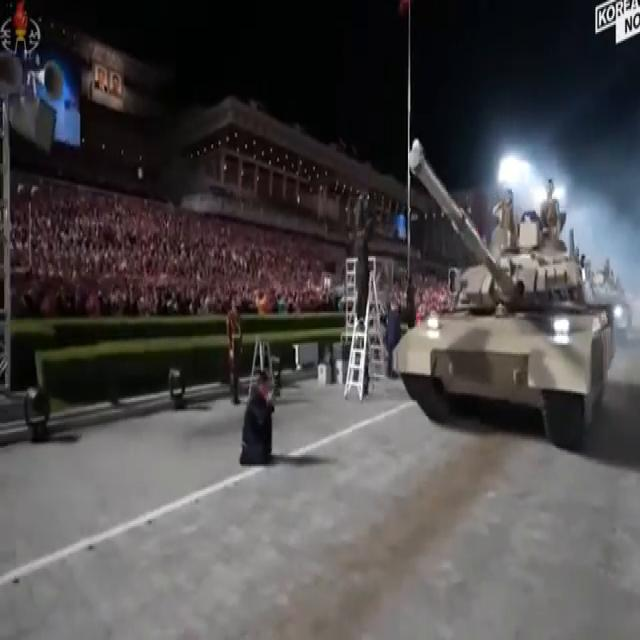north tank: (368, 123, 636, 479)
